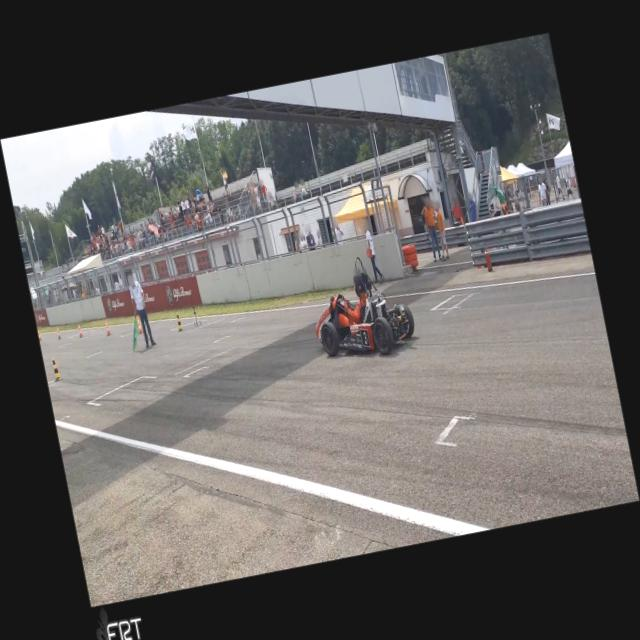large_orange_cone: (76, 323, 85, 338), (104, 320, 112, 336), (137, 316, 143, 334)
unknown_cone: (50, 356, 63, 382), (174, 312, 184, 332)
